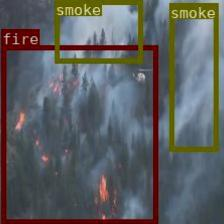fire: (0, 45, 156, 223)
smoke: (169, 2, 217, 150), (53, 0, 142, 62)
